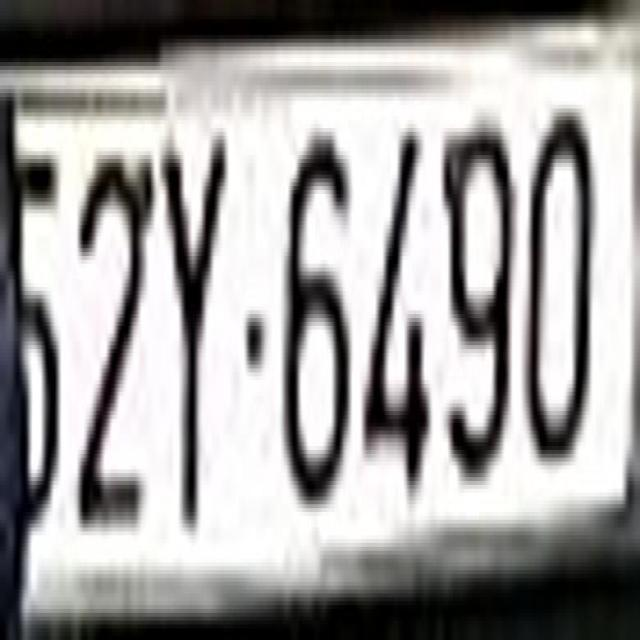0: (532, 112, 591, 446)
2: (80, 182, 144, 558)
4: (368, 132, 430, 492)
5: (5, 135, 62, 528)
6: (283, 132, 349, 516)
9: (453, 124, 512, 500)
Y: (161, 101, 224, 547)
